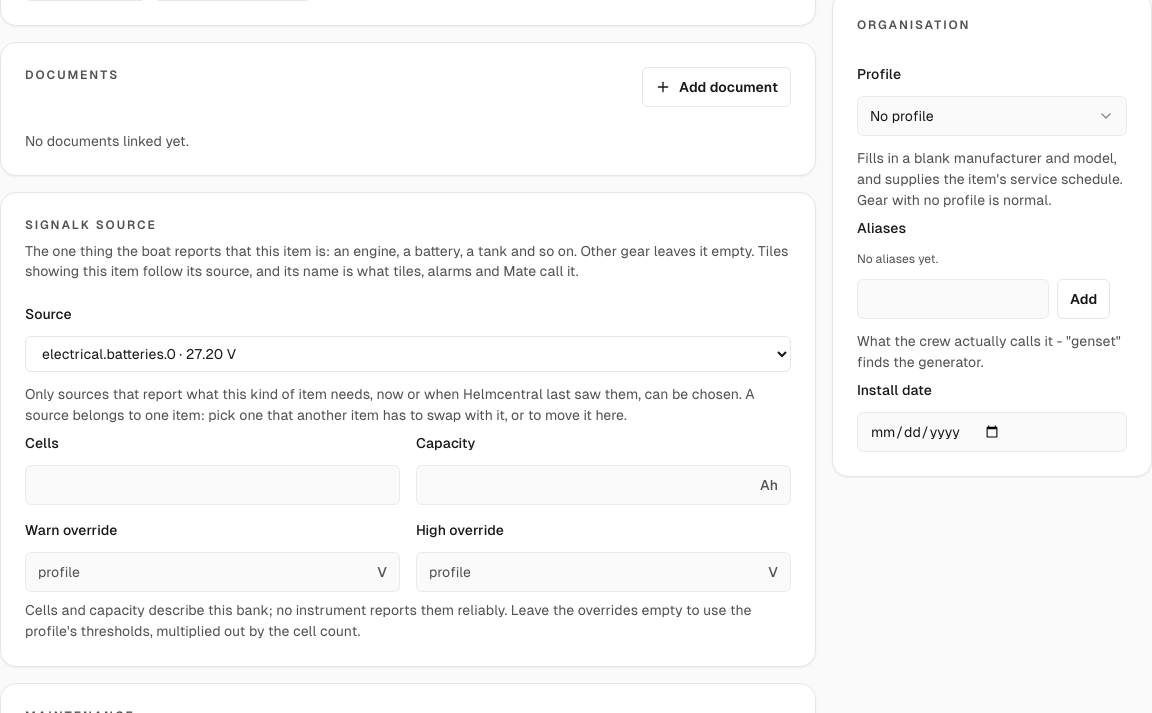
Test case: EquipmentEditor › taking a source another item owns › asks to change the owner's source on a swap, and saves nothing when that is declined
(page scrolled)
Step 1. Select "electrical.batteries.512 · 13.10 V · on Lithium bank" in the dropdown labelled "Source" → (408, 354), box 25,336 -> 791,372
(page scrolled)
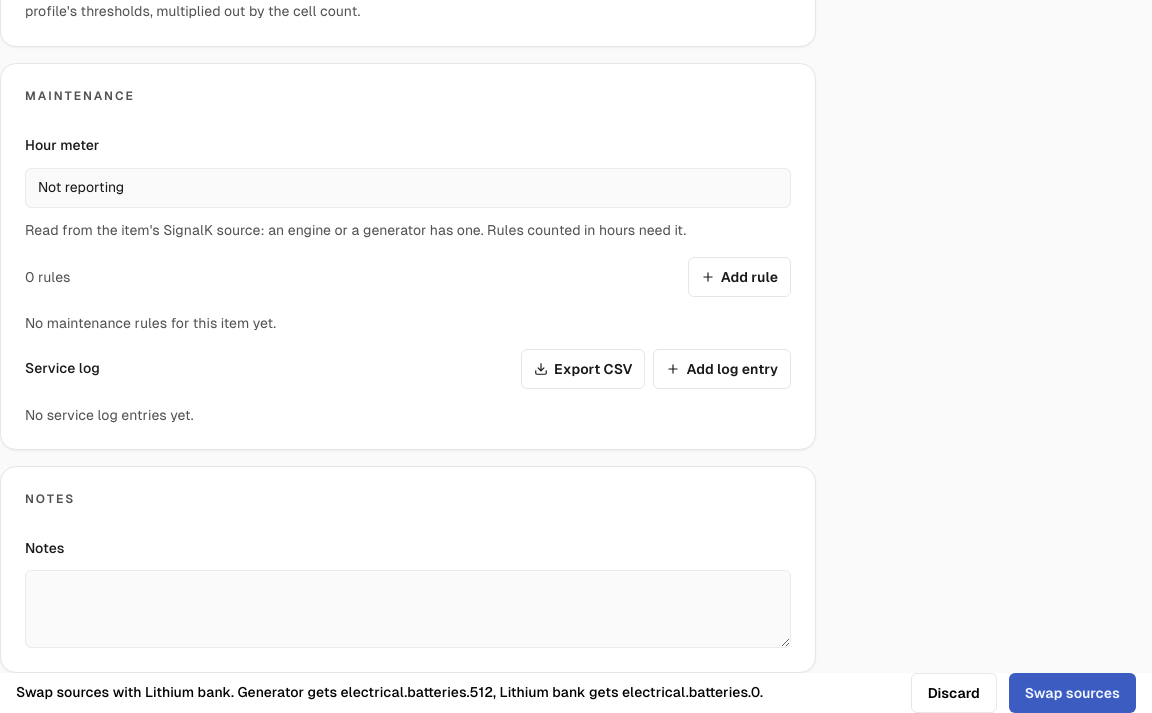
Step 2. Click the button "Swap sources" → (1072, 693), box 1009,673 -> 1136,712
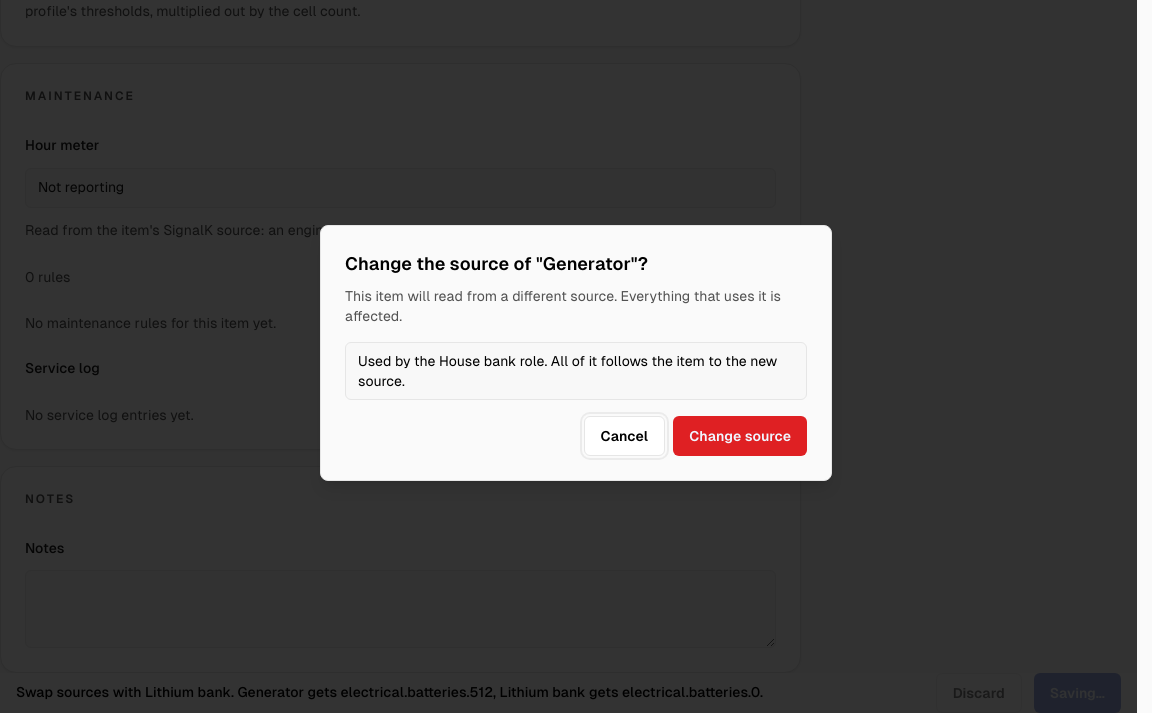
Check: the heading "Change the source of \"Generator\"?" is shown, box 345,253 -> 648,274
Step 3. Click the button "Change source" → (740, 436), box 673,416 -> 807,456
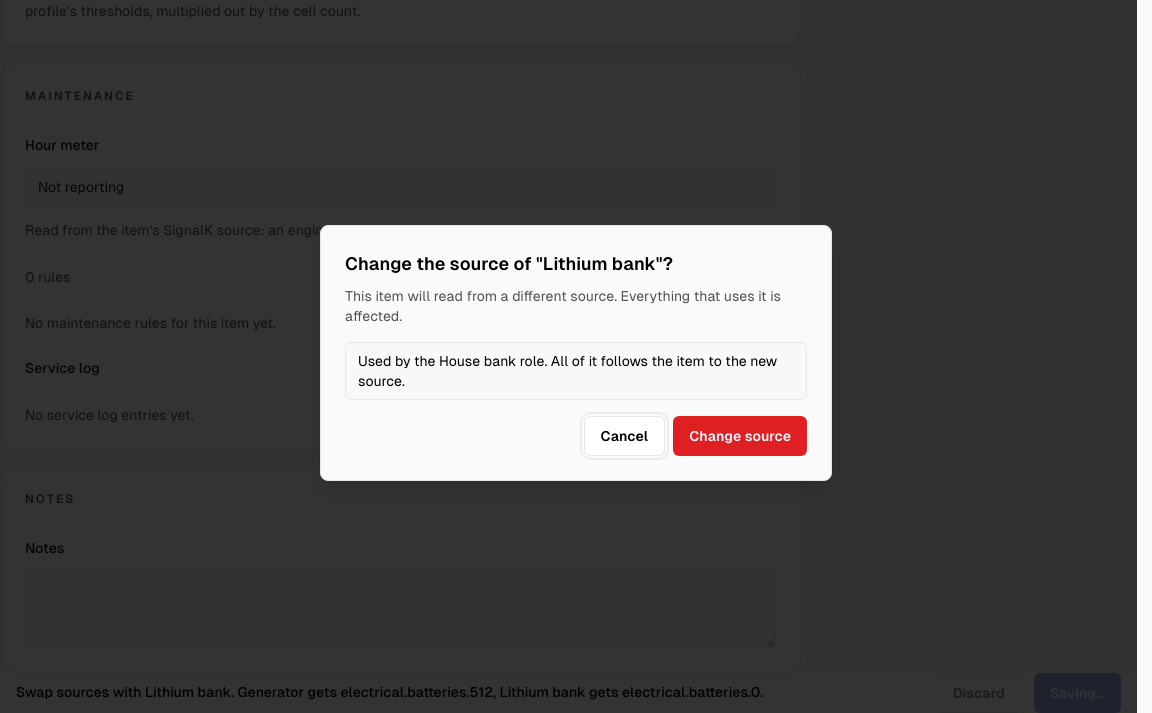
Check: the heading "Change the source of \"Lithium bank\"?" is shown, box 345,253 -> 673,274
Step 4. Click the button "Cancel" → (624, 436), box 584,416 -> 665,456
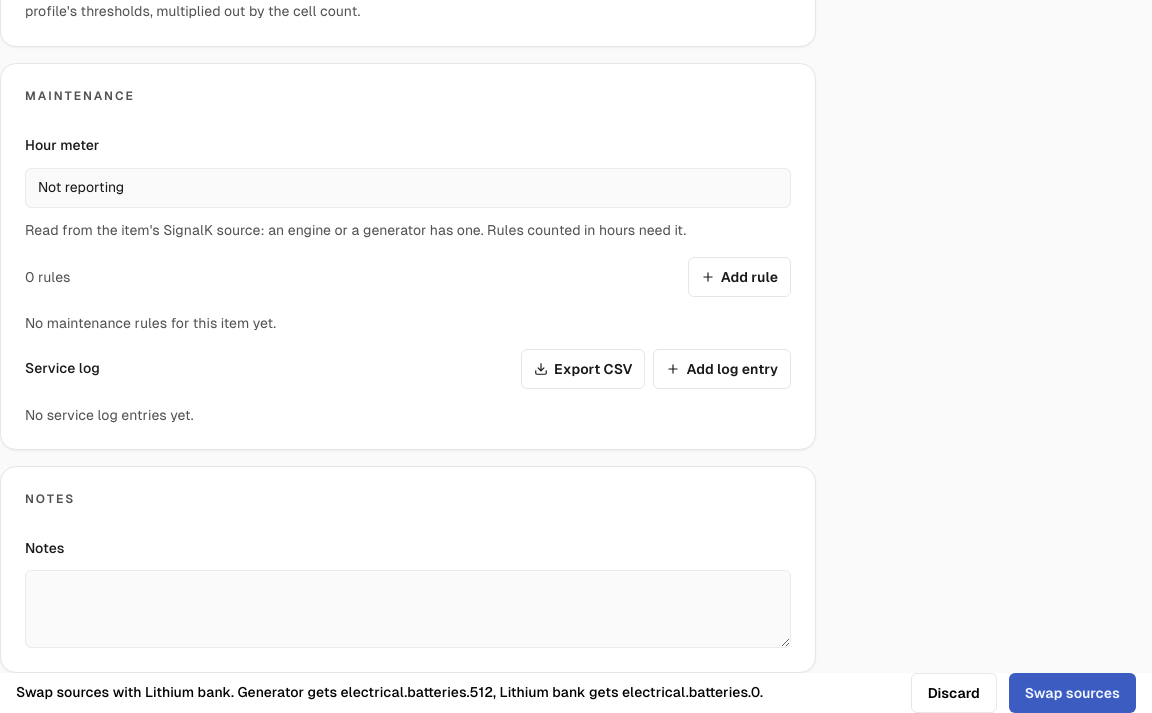
Check: the heading "Change the source of \"Lithium bank\"?" is gone
